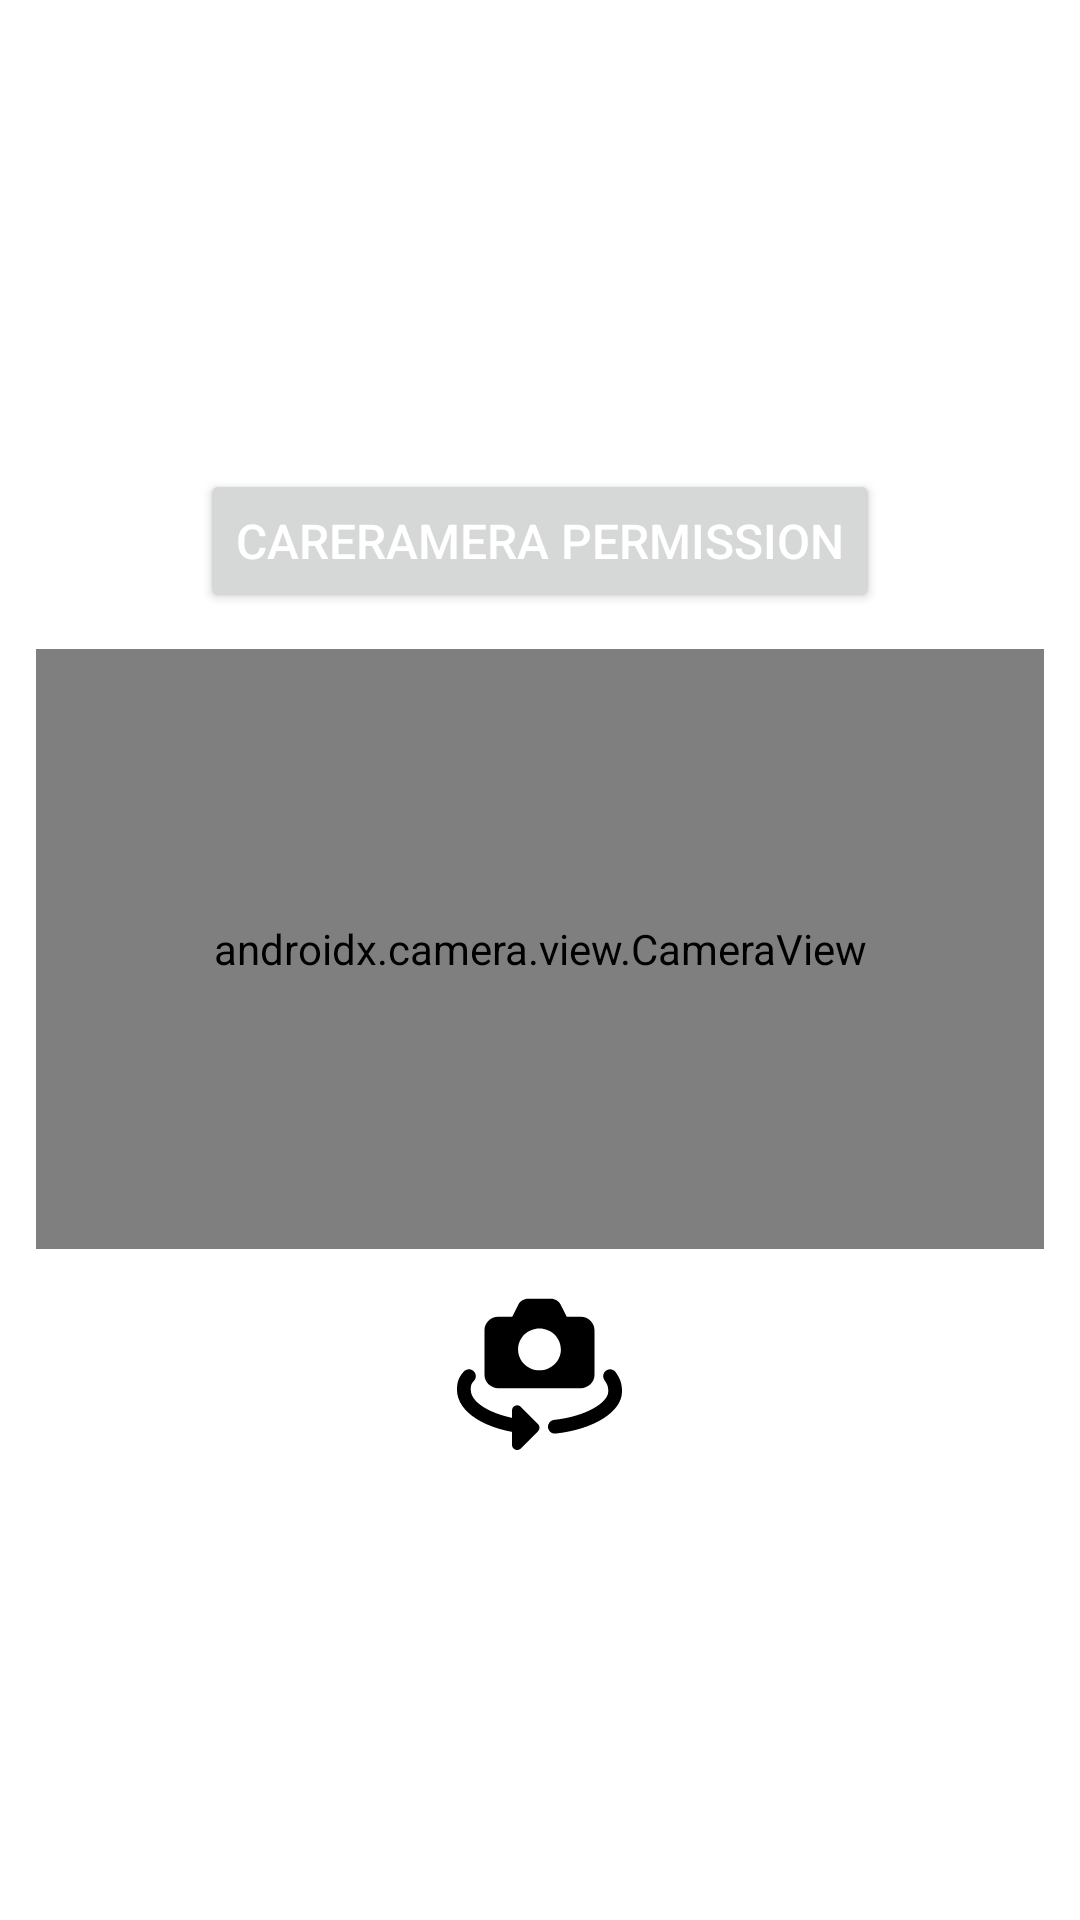

Icon click points for this 1080 × 1920 phone screenshot, format [x,y]:
flip: [539,1374]
